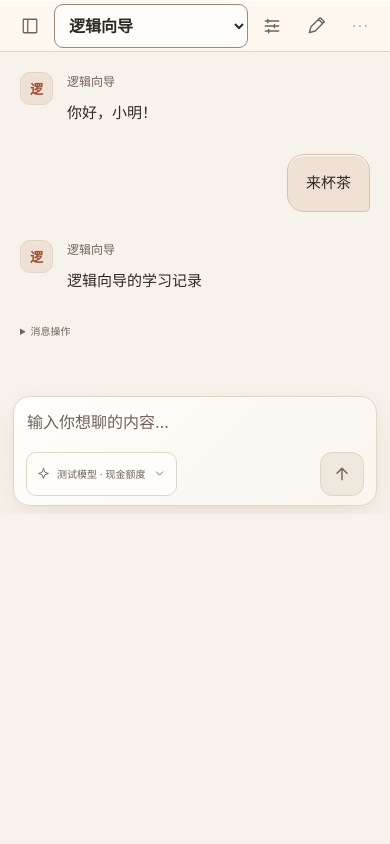
Test: offers every library role from the phone header and history drawer
The image size is (390, 844).
Expected: the text "逻辑向导的学习记录" is shown, [67,270,202,290]
Click the button named "会话历史" at (30,26), box [8,4,52,48]
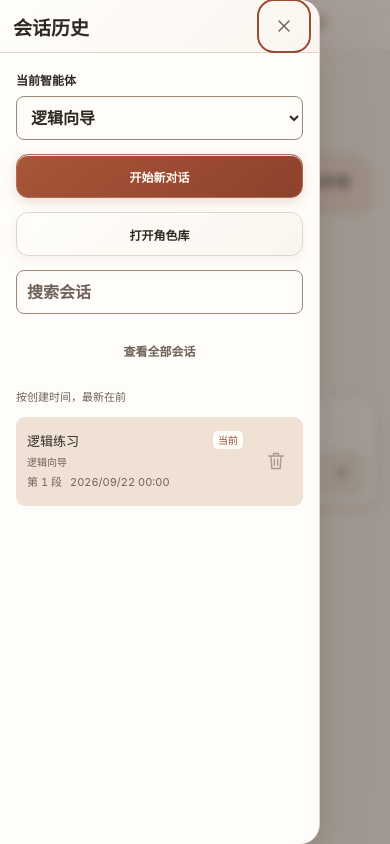
Select "阅读伙伴" in the dropdown labelled "当前智能体" at (160,118), box [16,96,303,140]
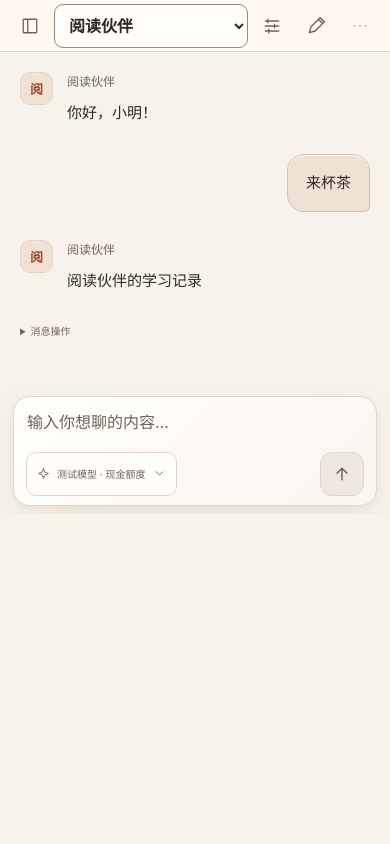
Expected: the text "阅读伙伴的学习记录" is shown, [67,270,202,290]
Expected: the dialog is gone
Expected: the dropdown named "切换智能体" shows "阅读伙伴", [54,4,248,48]
